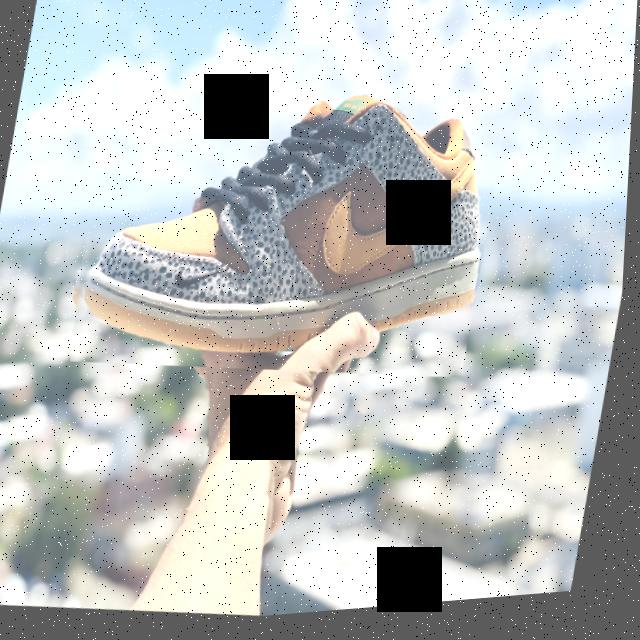shoe: (57, 47, 514, 412)
